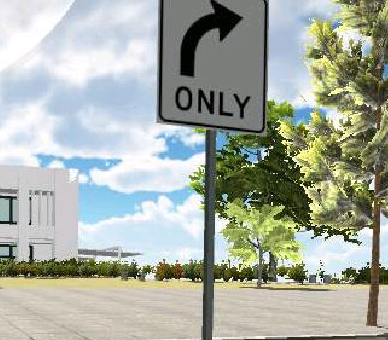arrow_right: (176, 1, 246, 79)
